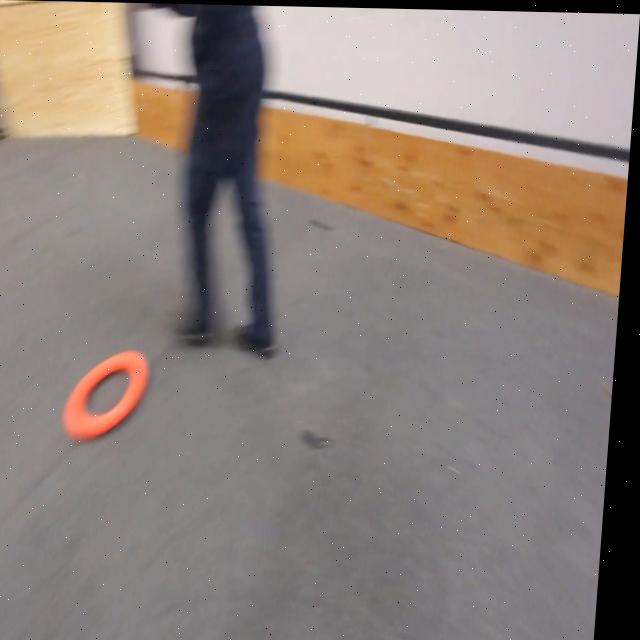note: (71, 351, 158, 442)
